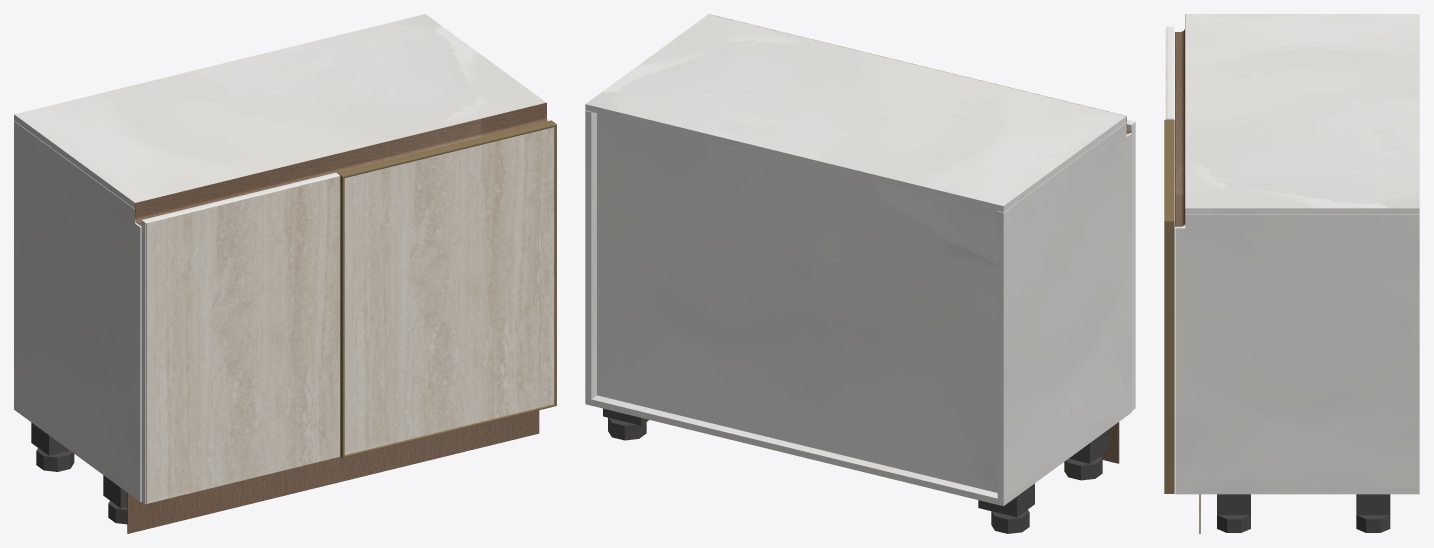
The model's file is BB-AC-CJ-ST-LMC-LHS-XXX-1050-720-560-15.glb.
3 renders of one model, left to right at view 1: azimuth 30°, elevation 25°; view 2: azimuth 150°, elevation 25°; view 3: azimuth 270°, elevation 25°, orthographic. The views are drawn at different scales.
Parts seen in each view (by area): view 1: Object_node_18, TP_node_2, TP_node_1, TP_node, Object_node_20, ExtrSplGeo, Extrusion, ALU PROF FOR SHUTTER 851P IMP_node, Extrusion_node_1, ALU PROF FOR SHUTTER 851P IMP_node_1, TP, Extrusion_node (+2 smaller); view 2: TP_node_3, TP_node_1, TP_node, TP, TP_node_0, ALU PROF FOR SHUTTER 851P IMP_node, Plate, Foot, Foot_node_0, Foot_node; view 3: TP_node_0, TP_node_1, Extrusion_node, ExtrSplGeo, TP, Extrusion, Plate_node, ALU PROF FOR SHUTTER 851P IMP_node_1, Plate_node_1, Foot_node, Foot_node_1.
Boxes of the visible parts, x1,y1,x2,y2 form: Object_node_18: (344,127,554,454); TP_node_2: (146,176,340,503); TP_node_1: (14,14,545,208); TP_node: (14,121,141,495); Object_node_20: (127,410,539,533); ExtrSplGeo: (135,102,547,225); Extrusion: (337,120,556,177); ALU PROF FOR SHUTTER 851P IMP_node: (141,220,145,504); Extrusion_node_1: (337,173,344,457); ALU PROF FOR SHUTTER 851P IMP_node_1: (142,172,339,222); TP: (14,403,141,501); Extrusion_node: (554,124,556,405); TP_node_3: (597,113,997,492); TP_node_1: (585,14,1126,212); TP_node: (997,122,1131,499); TP: (585,395,1131,506); TP_node_0: (585,110,596,399); ALU PROF FOR SHUTTER 851P IMP_node: (1131,122,1135,410); Plate: (978,483,1034,517); Foot: (991,509,1029,533); Foot_node_0: (1064,456,1102,480); Foot_node: (608,417,646,440); TP_node_0: (1175,214,1419,488); TP_node_1: (1185,14,1419,214); Extrusion_node: (1164,221,1174,493); ExtrSplGeo: (1175,14,1185,226); TP: (1175,488,1419,494); Extrusion: (1164,120,1174,221); Plate_node: (1356,494,1390,515); ALU PROF FOR SHUTTER 851P IMP_node_1: (1167,26,1174,118); Plate_node_1: (1217,494,1250,515); Foot_node: (1356,515,1390,532); Foot_node_1: (1217,515,1250,532).
Size of what is drawn, in the model's own units: 1.05 by 0.82 by 0.5834.
16 materials, 3 textured.
